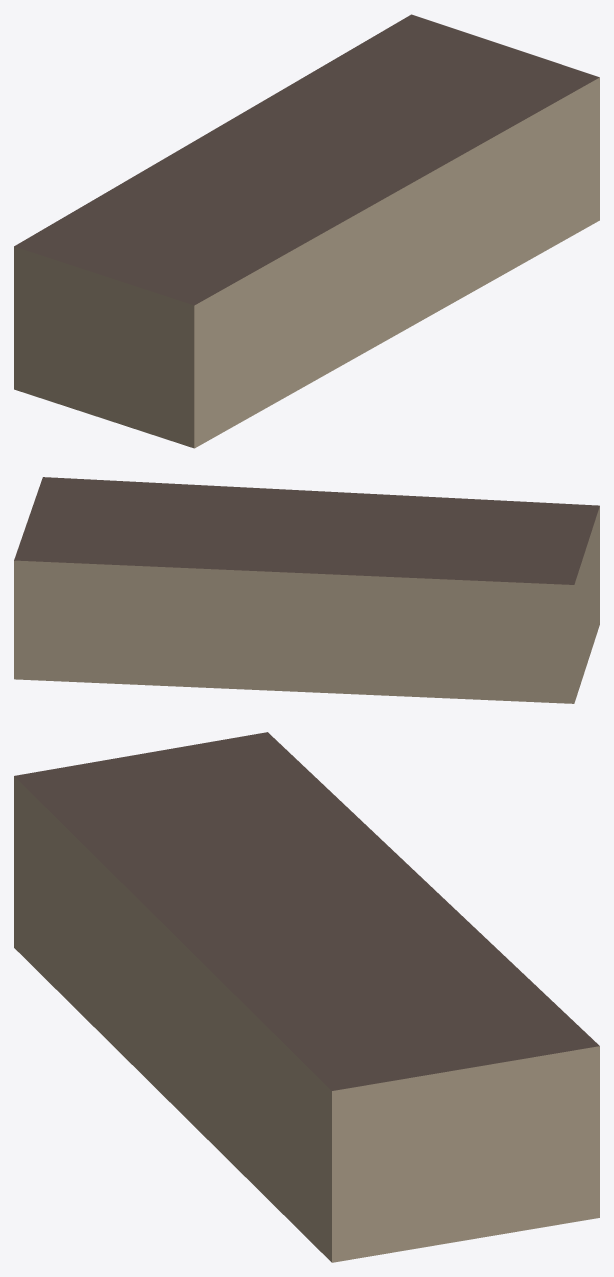
3 views of the same model, one above another, from view 1: azimuth 30°, elevation 25°; view 2: azimuth 150°, elevation 25°; view 3: azimuth 270°, elevation 25° (orthographic). The views are drawn at different scales.
Visible parts, largest first — view 1: HP-w1512911295; view 2: HP-w1512911295; view 3: HP-w1512911295.
Boxes of the visible parts, box(x1,y1,x2,y2) form: HP-w1512911295: box(14, 14, 599, 448); HP-w1512911295: box(14, 477, 599, 703); HP-w1512911295: box(14, 732, 599, 1262).
Size of the model in its own units: 40.34 by 9 by 27.83.
